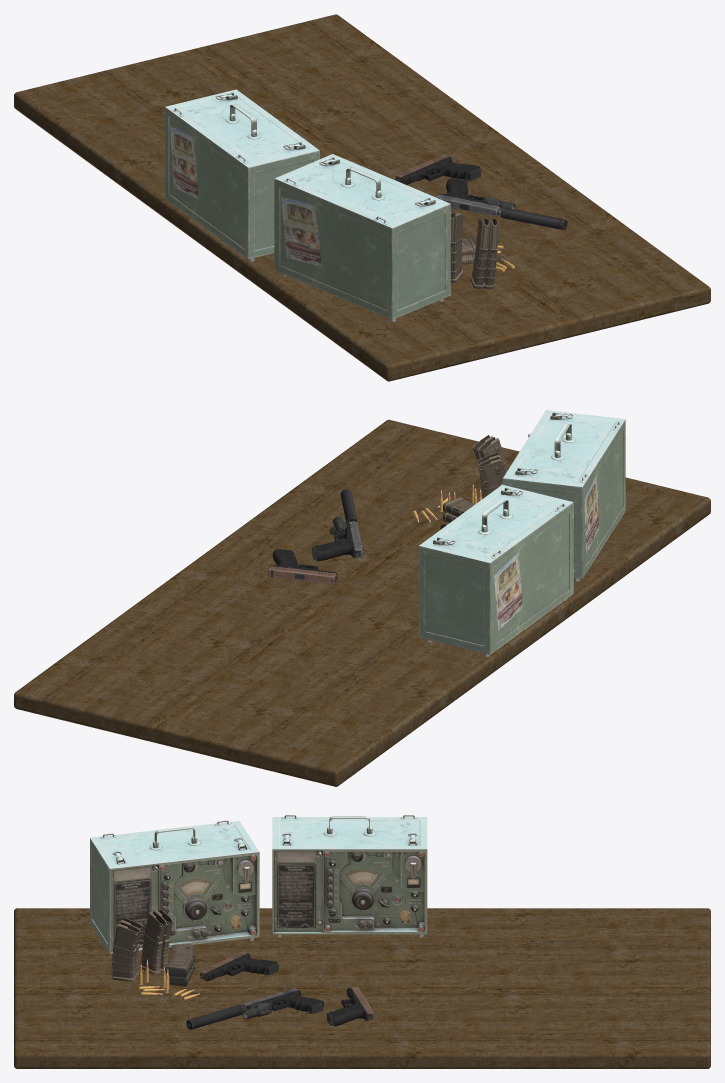
File: Military-Desk.glb
The picture shows the model from 3 angles, top to bottom: view 1: azimuth 30°, elevation 25°; view 2: azimuth 150°, elevation 25°; view 3: azimuth 270°, elevation 25°; orthographic projection. The views are drawn at different scales.
Parts seen in each view (by area): view 1: Geom3D (×9); view 2: Geom3D (×6); view 3: Geom3D (×11).
Part boxes in pixels (x1,y1,x2,y2): Geom3D (×9): (14, 14, 710, 381); Geom3D (×6): (14, 410, 710, 786); Geom3D (×11): (14, 815, 710, 1068).
Size of what is drawn, in the model's own units: 1 by 0.3865 by 2.
18 materials, 15 textured.
